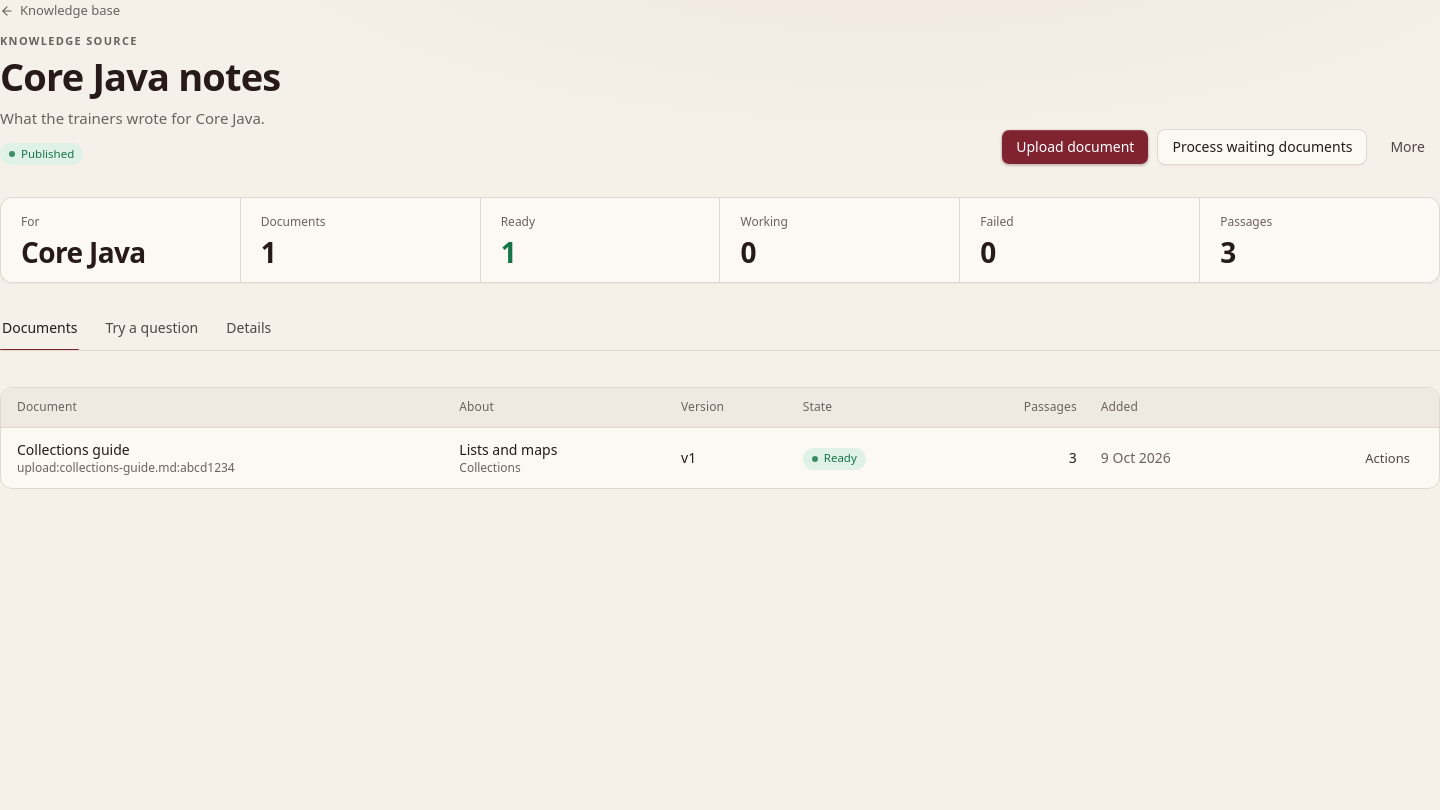
Scenario: a knowledge source › deletes a document only once it is confirmed
The width and height of the screenshot is (1440, 810).
Later steps or results of the test are not shown.
Press Enter in the button with aria-label "Actions for Collections guide", box top-left (1352, 442), bottom-right (1423, 474)
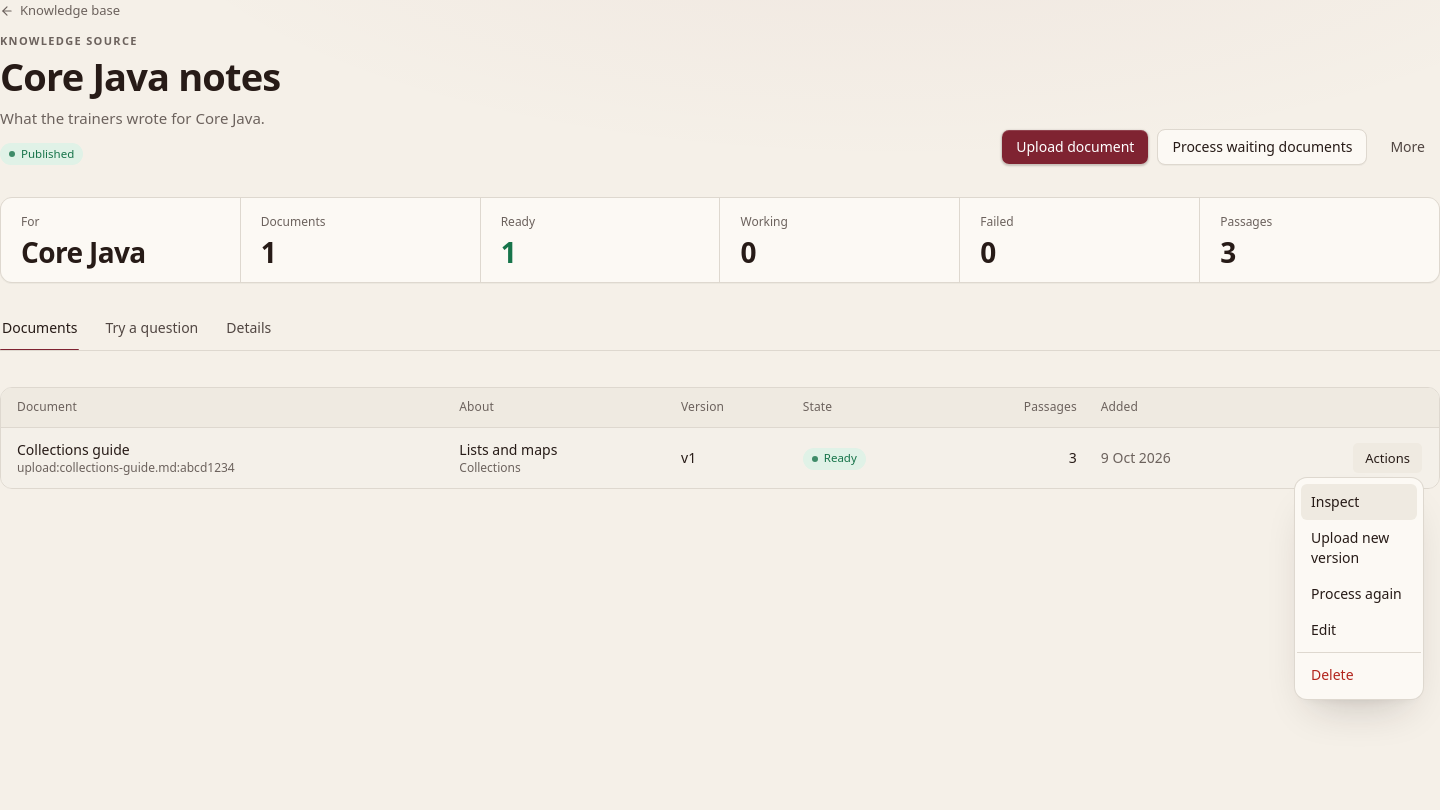
Click the menu item "Delete" at x=1332, y=674, box top-left (1311, 665), bottom-right (1354, 684)
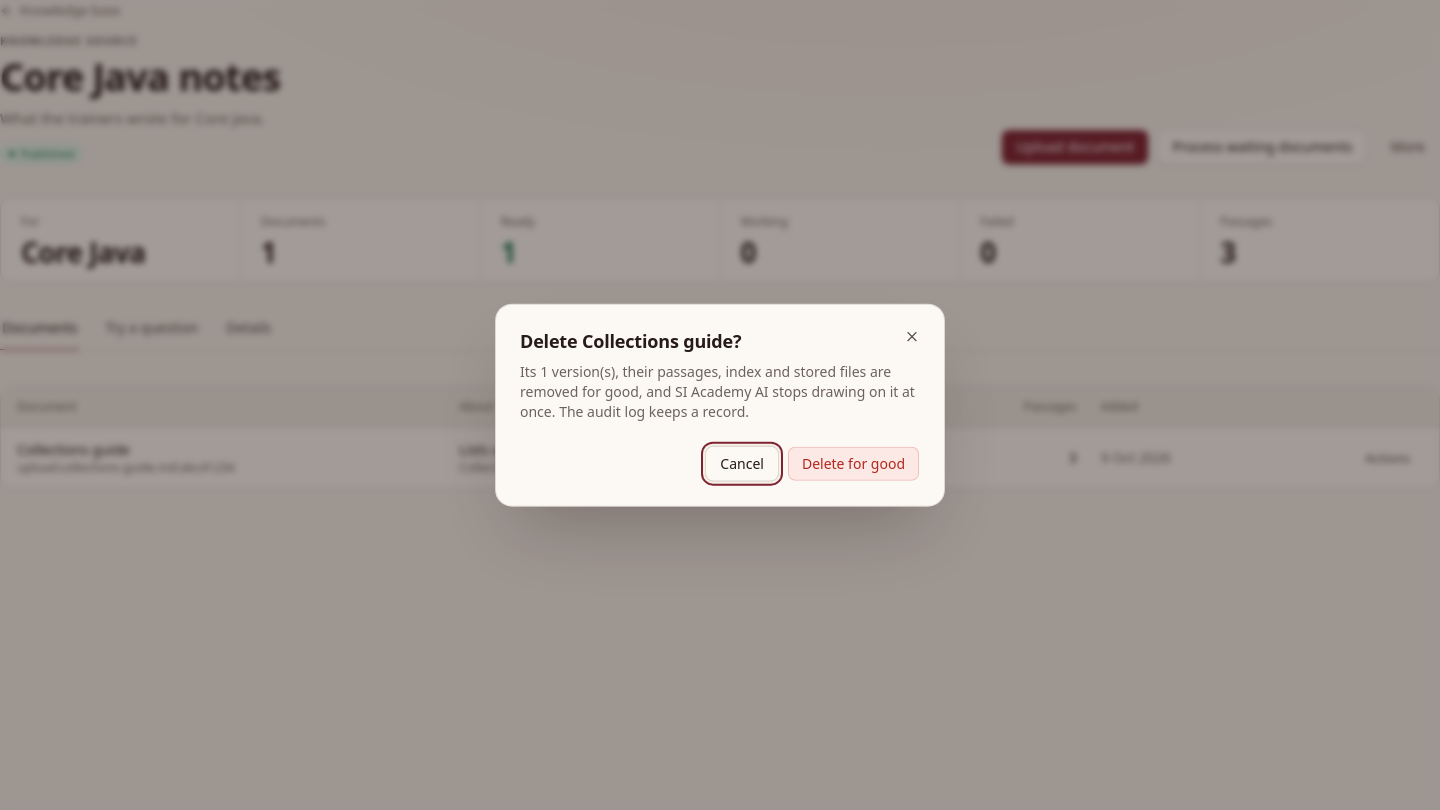
Expected: the text "removed for good" is shown, top-left (520, 361), bottom-right (915, 420)
